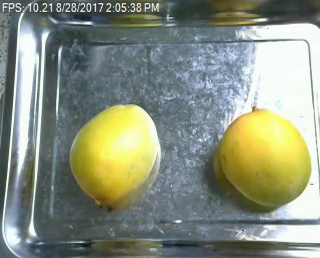Mango: (65, 102, 159, 207), (216, 109, 311, 205)
